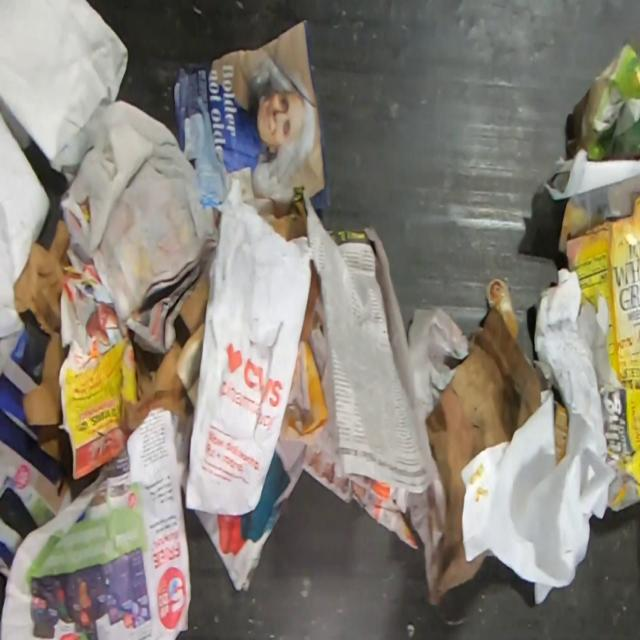cardboard: (557, 171, 640, 390), (486, 279, 520, 341)
